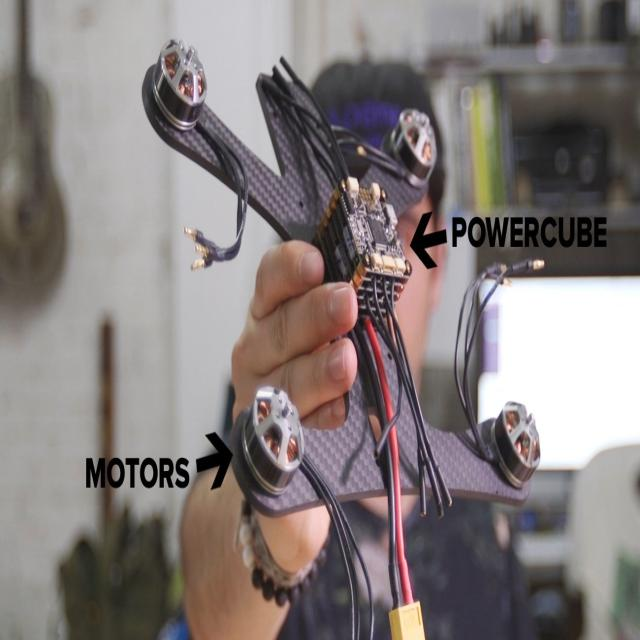drone: (148, 18, 528, 572)
